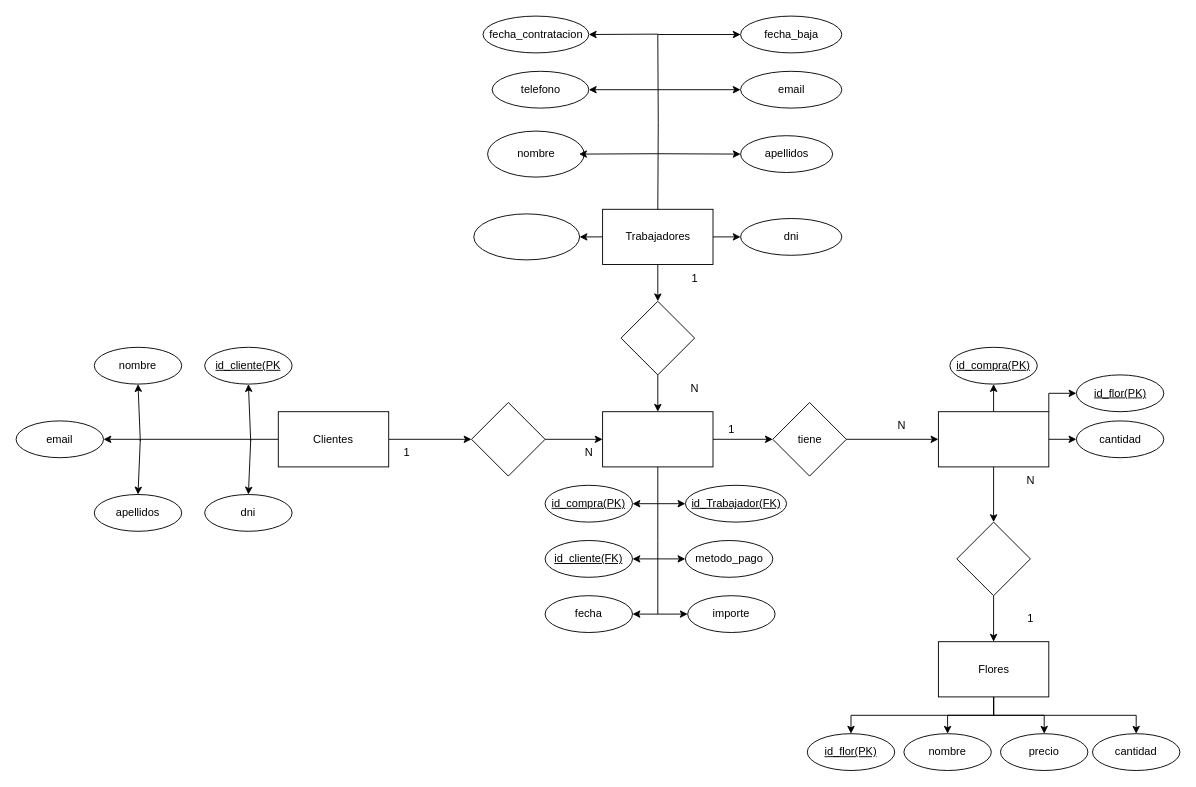
This 1196x787 diagram has some shape labels left out. Here are the shapes that lost their labels. From the top down, the box of each, then its label:
(473, 213, 580, 260): id_trabajador(PK)
(620, 300, 695, 375): atiende
(471, 402, 545, 476): realiza
(602, 411, 713, 467): Compras
(937, 411, 1049, 467): Flores_Compras
(956, 521, 1030, 596): contiene
